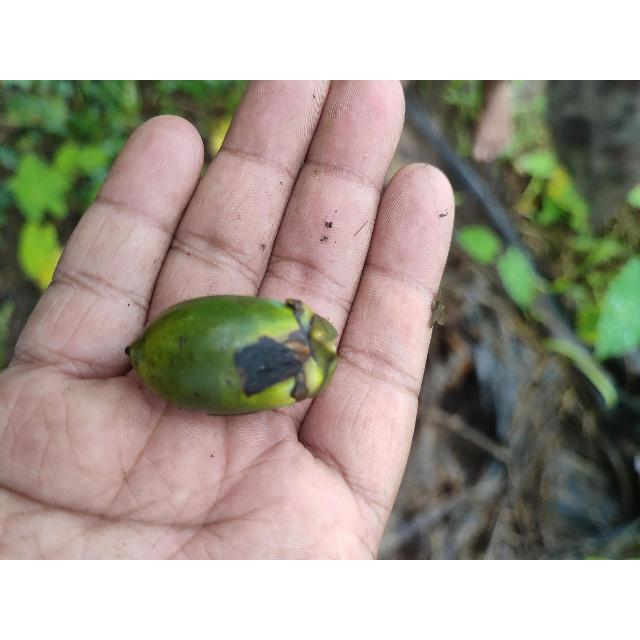damaged: (122, 294, 344, 419)
